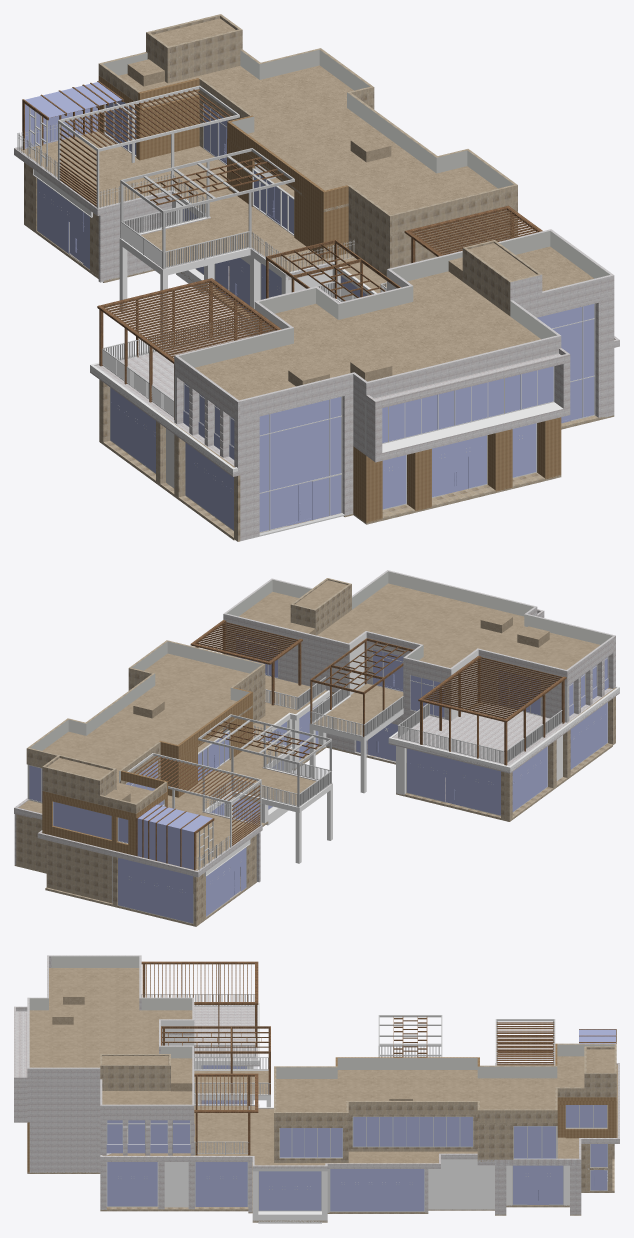
The picture shows the model from 3 angles, top to bottom: view 1: azimuth 30°, elevation 25°; view 2: azimuth 150°, elevation 25°; view 3: azimuth 270°, elevation 25°; orthographic projection. The views are drawn at different scales.
Parts seen in each view (by area): view 1: Floor FIN-2 [773476], Floor FIN-2 [773659], Floor FIN-2 [550807], canopy-4 canopy-4 [920758], canopy-2 canopy-2 [687179], CANOPY-3 CANOPY-3 [687252], canopy-1 canopy-1 [531986], Floor FIN-2 [1021726], Basic Wall Generic - 200mm [381954], rail-24 rail-24 [1188242], Floor SLAB -25 [397690], ELE-CORE ELE-CORE [1326245] (+49 smaller); view 2: Floor FIN-2 [550807], Floor FIN-2 [773476], canopy-4 canopy-4 [920758], Floor FIN-2 [773659], canopy-1 canopy-1 [531986], Floor SLAB -25 [397690], canopy-2 canopy-2 [687179], Basic Wall Generic - 200mm [1235782], CANOPY-3 CANOPY-3 [687252], rail1 rail-24 [694187], Floor SLAB -25 [345657], Floor FIN-2 [1021726] (+37 smaller); view 3: Floor FIN-2 [773476], Floor FIN-2 [550807], Floor FIN-2 [773659], canopy-4 canopy-4 [920758], Basic Wall Generic - 200mm [414566], Basic Wall Generic - 200mm [355230], Floor SLAB -25 [397690], Basic Wall Generic - 200mm [349388], canopy-2 canopy-2 [687179], Basic Wall Generic - 200mm [406797], Floor FIN-2 [1021726], Basic Wall Generic - 200mm [407287] (+67 smaller).
Boxes of the visible parts, x1=… form: Floor FIN-2 [773476]: x1=194, y1=246, x2=593, y2=400; Floor FIN-2 [773659]: x1=119, y1=65, x2=497, y2=214; Floor FIN-2 [550807]: x1=20, y1=131, x2=614, y2=467; canopy-4 canopy-4 [920758]: x1=97, y1=205, x2=542, y2=419; canopy-2 canopy-2 [687179]: x1=58, y1=85, x2=239, y2=208; CANOPY-3 CANOPY-3 [687252]: x1=120, y1=148, x2=294, y2=269; canopy-1 canopy-1 [531986]: x1=22, y1=81, x2=123, y2=166; Floor FIN-2 [1021726]: x1=24, y1=222, x2=614, y2=540; Basic Wall Generic - 200mm [381954]: x1=365, y1=335, x2=558, y2=399; rail-24 rail-24 [1188242]: x1=17, y1=133, x2=333, y2=268; Floor SLAB -25 [397690]: x1=14, y1=146, x2=619, y2=472; ELE-CORE ELE-CORE [1326245]: x1=127, y1=59, x2=462, y2=386; Floor FIN-2 [550807]: x1=18, y1=675, x2=615, y2=870; Floor FIN-2 [773476]: x1=239, y1=583, x2=600, y2=669; canopy-4 canopy-4 [920758]: x1=190, y1=620, x2=566, y2=765; Floor FIN-2 [773659]: x1=42, y1=653, x2=249, y2=803; canopy-1 canopy-1 [531986]: x1=136, y1=804, x2=214, y2=870; Floor SLAB -25 [397690]: x1=14, y1=686, x2=619, y2=874; canopy-2 canopy-2 [687179]: x1=127, y1=753, x2=261, y2=847; Basic Wall Generic - 200mm [1235782]: x1=48, y1=841, x2=111, y2=903; CANOPY-3 CANOPY-3 [687252]: x1=198, y1=714, x2=331, y2=807; rail1 rail-24 [694187]: x1=397, y1=703, x2=562, y2=763; Floor SLAB -25 [345657]: x1=14, y1=690, x2=619, y2=876; Floor FIN-2 [1021726]: x1=14, y1=740, x2=612, y2=926; Floor FIN-2 [773476]: x1=29, y1=968, x2=192, y2=1104; Floor FIN-2 [550807]: x1=102, y1=1005, x2=617, y2=1165; Floor FIN-2 [773659]: x1=276, y1=1056, x2=584, y2=1111; canopy-4 canopy-4 [920758]: x1=141, y1=961, x2=270, y2=1155; Basic Wall Generic - 200mm [414566]: x1=29, y1=1122, x2=100, y2=1172; Basic Wall Generic - 200mm [355230]: x1=428, y1=1159, x2=494, y2=1209; Floor SLAB -25 [397690]: x1=100, y1=1003, x2=619, y2=1168; Basic Wall Generic - 200mm [349388]: x1=29, y1=1083, x2=100, y2=1122; canopy-2 canopy-2 [687179]: x1=495, y1=1019, x2=555, y2=1065; Basic Wall Generic - 200mm [406797]: x1=337, y1=1057, x2=479, y2=1069; Floor FIN-2 [1021726]: x1=27, y1=1159, x2=614, y2=1222; Basic Wall Generic - 200mm [407287]: x1=346, y1=1101, x2=477, y2=1114.
Size of the model in its own units: 35.9 by 12.7 by 56.25.
Materials: 10 (6 with a texture image).
